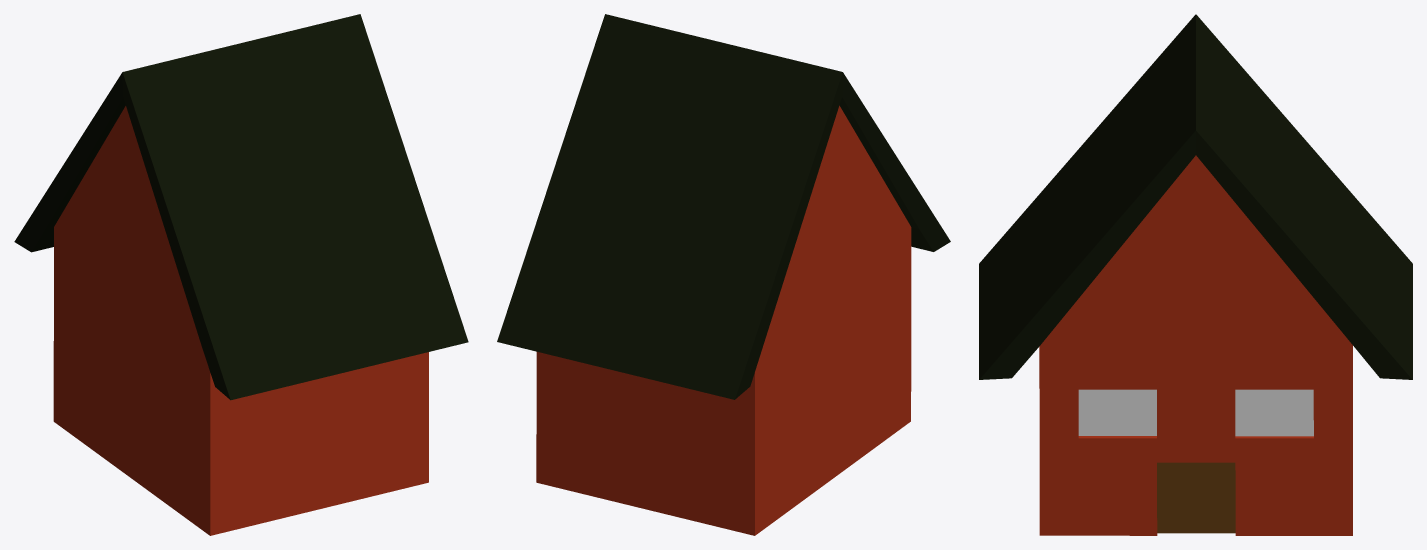
The model's file is House.fbx.
3 views of the same model, side by side, from view 1: azimuth 30°, elevation 25°; view 2: azimuth 150°, elevation 25°; view 3: azimuth 270°, elevation 25° (orthographic).
Parts seen in each view (by area): view 1: House; view 2: House; view 3: House.
Boxes of the visible parts, x1,y1,x2,y2 form: House: (14,14,468,535); House: (497,14,950,535); House: (979,14,1412,535).
Bounding box in the file's own units: 200 × 329 × 315.
